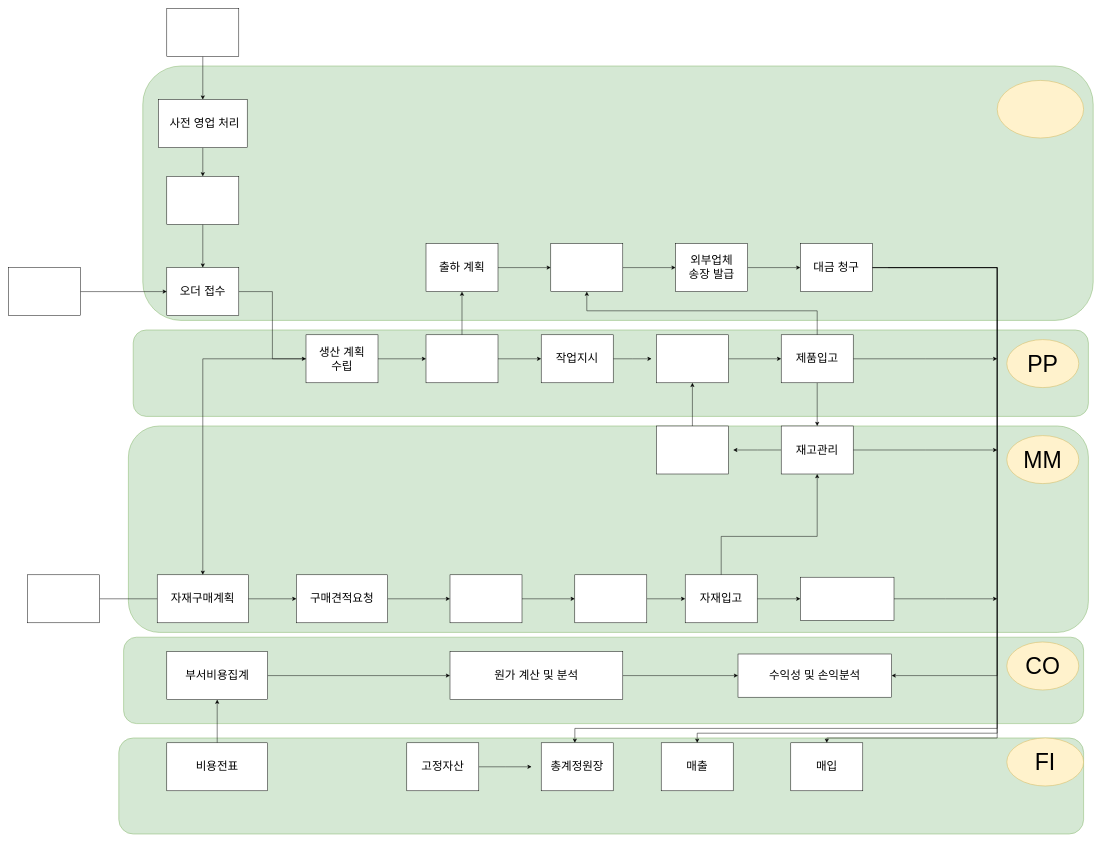
Image size: 1102x842. Some labels were removed from this diagram. The shapes that lost their labels are listed below. From the top down, each one's box as (x1, y1, x2, y2) in pixels, then its label:
(166, 8, 239, 56): 조직
(997, 80, 1084, 138): SD
(166, 176, 239, 224): 판매 계획
(550, 243, 623, 292): 출하
(8, 267, 80, 316): 고객
(426, 334, 498, 383): 생산 계획 수행
(656, 334, 728, 383): 생산실행
(656, 426, 728, 474): 자재투입
(27, 574, 100, 623): 자재
(450, 574, 522, 623): 구매계약
(574, 574, 647, 623): 구매발주
(800, 577, 894, 620): 지불 정산
